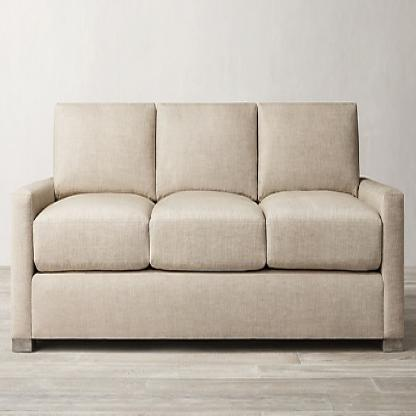Sofa: (10, 101, 405, 361)
